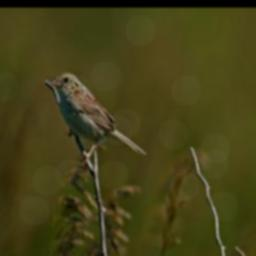Sparrow: (47, 70, 147, 168)
